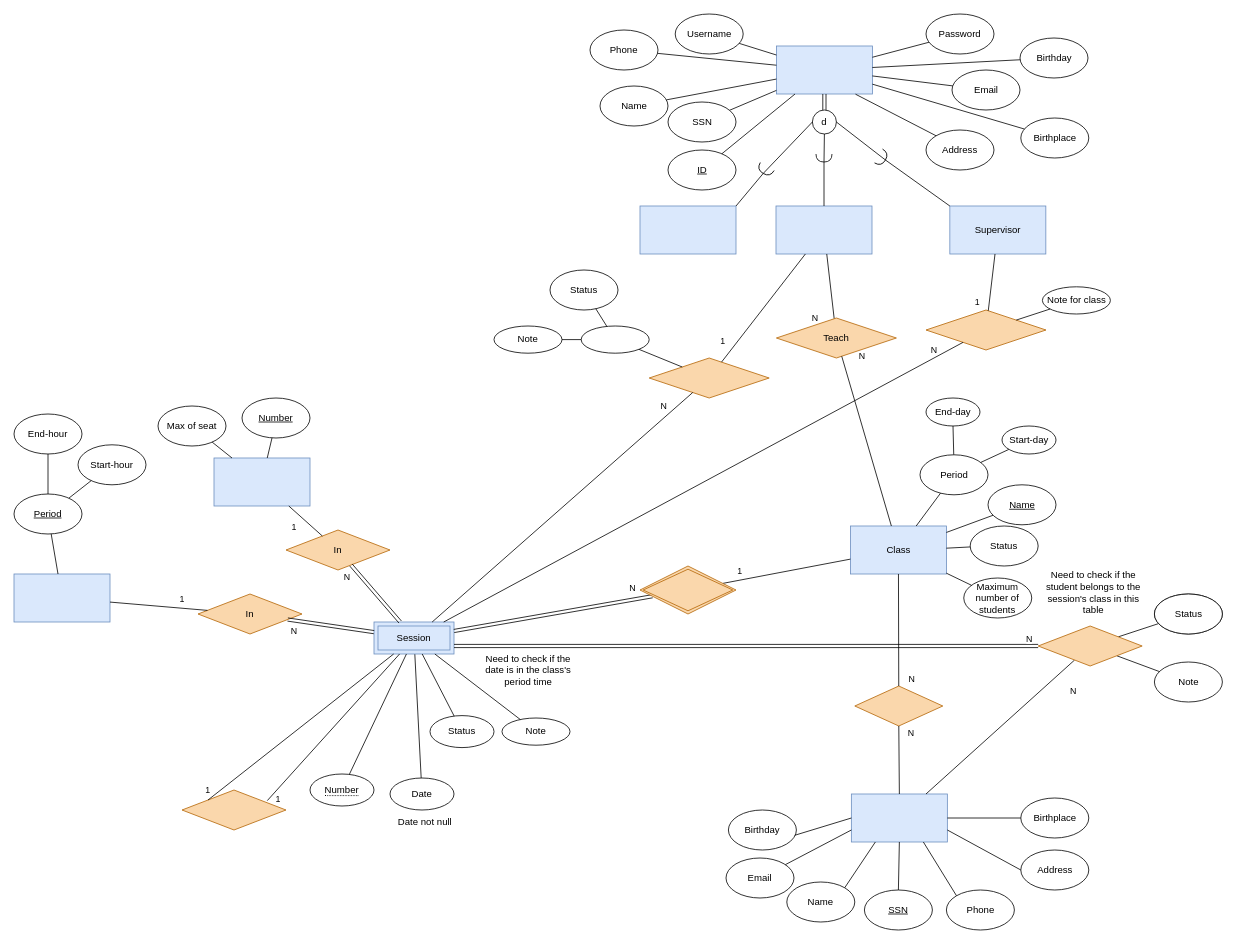
Some shapes in this 1237 by 944 pixel diagram are drawn without their labels. Here are the shapes that lost their labels. From the top down, the box of each, then its label:
(776, 45, 872, 94): Employee
(639, 205, 736, 254): Admin
(775, 205, 872, 254): Teacher
(580, 325, 649, 353): Teacher attendance
(925, 309, 1046, 350): Supervisor responsible
(648, 357, 769, 398): Teacher responsible
(213, 457, 310, 506): Classroom
(13, 573, 110, 622): Timetable
(639, 565, 736, 614): Have
(1037, 625, 1142, 666): Student attendance
(854, 685, 943, 726): In class
(181, 789, 286, 830): Make up for
(851, 793, 947, 842): Student
